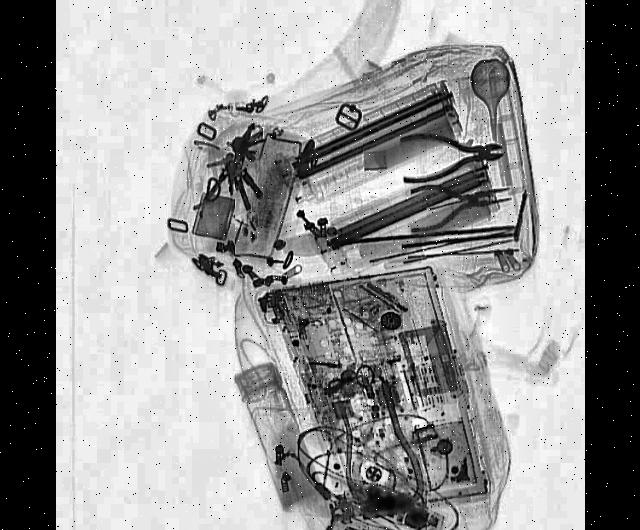Pliers: (406, 167, 512, 236), (398, 124, 504, 184)
